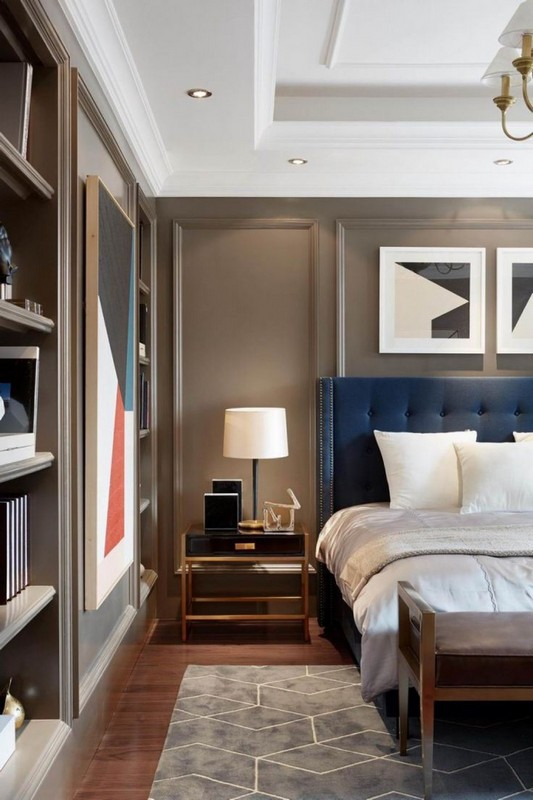bed: (316, 372, 533, 772)
lamp: (221, 403, 296, 534)
stool: (177, 520, 315, 651)
